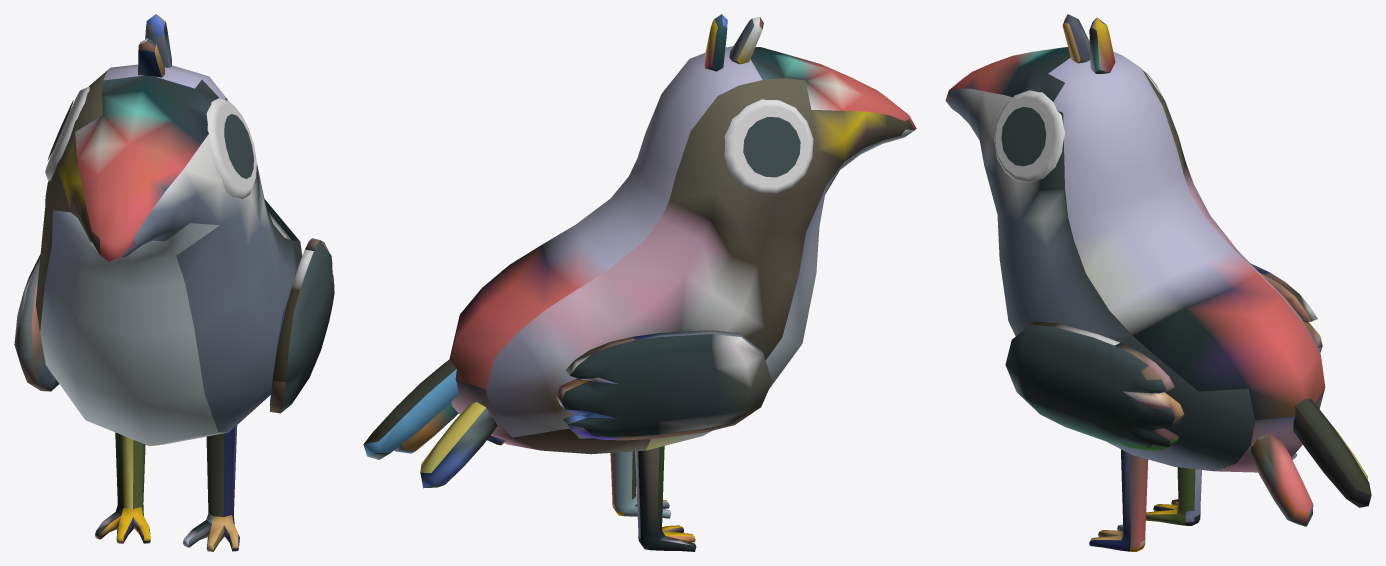
File: Crow.glb
3 views of the same model, side by side, from view 1: azimuth 30°, elevation 25°; view 2: azimuth 150°, elevation 25°; view 3: azimuth 270°, elevation 25° (orthographic). The views are drawn at different scales.
Visible parts, largest first — view 1: 36; view 2: 36; view 3: 36.
Boxes of the visible parts, x1,y1,x2,y2 form: 36: (14, 14, 334, 551); 36: (363, 14, 916, 551); 36: (945, 14, 1371, 551).
Bounding box in the file's own units: 0.5375 × 0.7539 × 0.5888.
